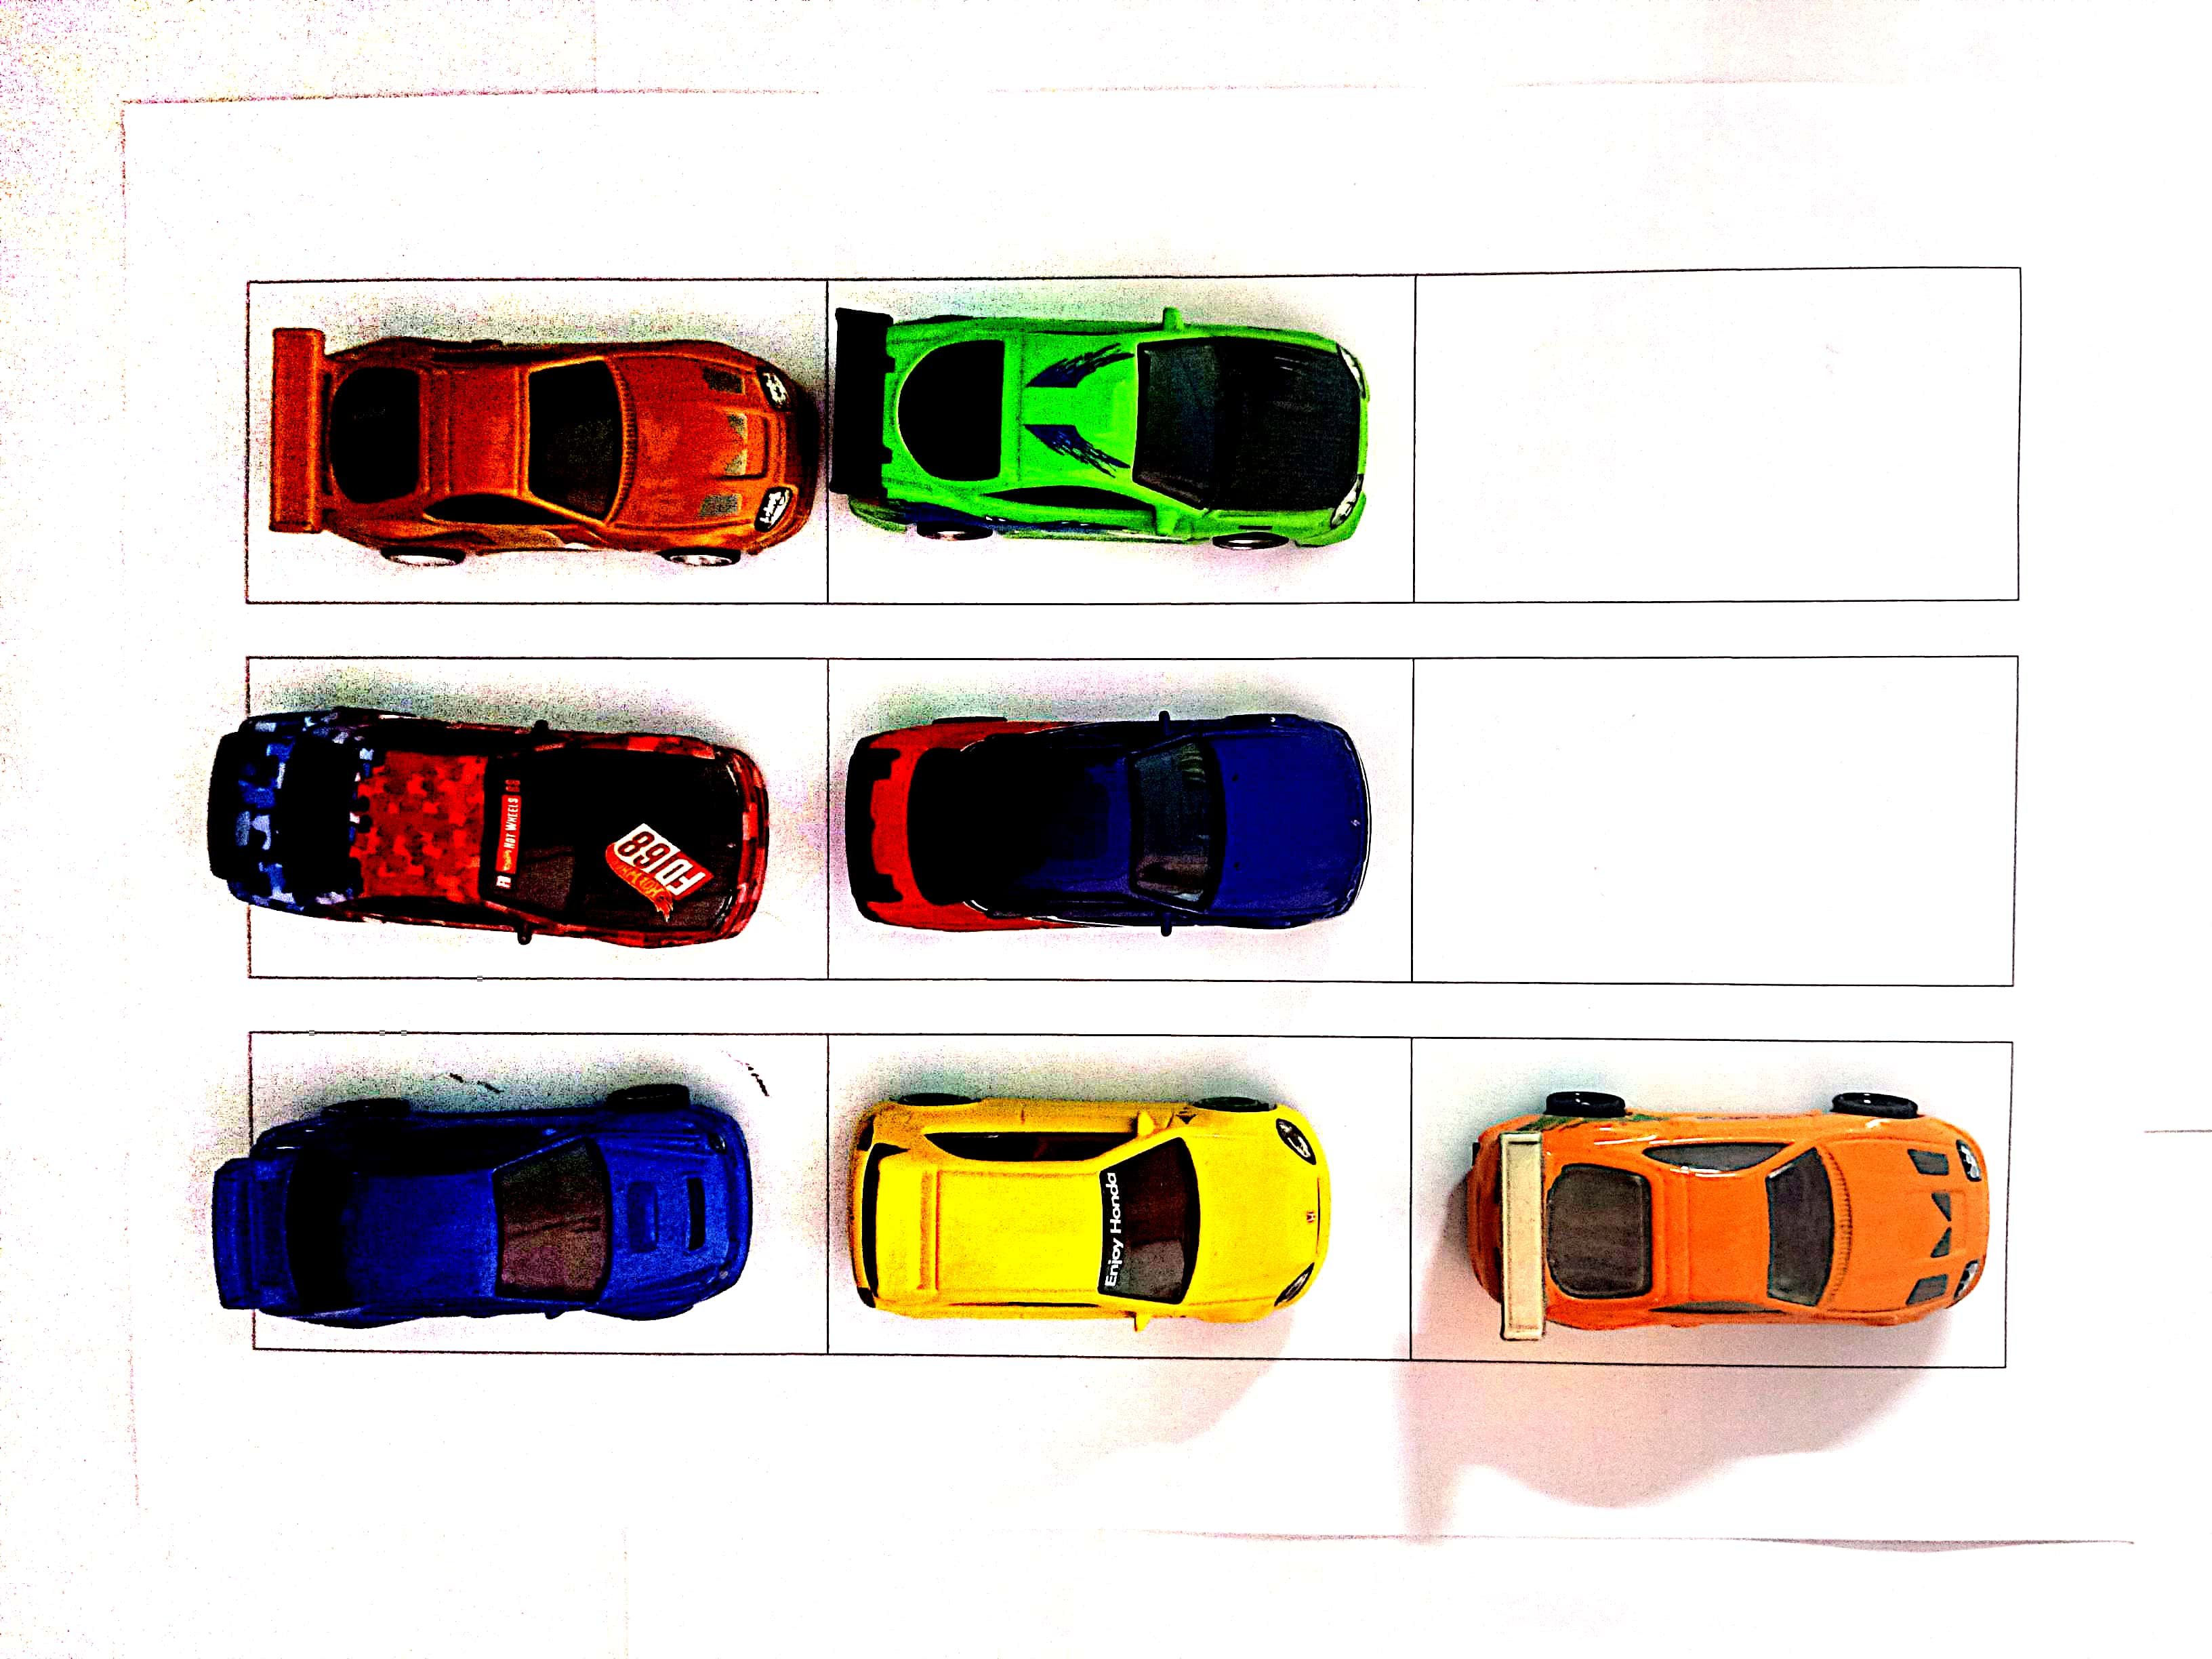Busy: (244, 279, 827, 605), (1409, 1044, 2012, 1356), (829, 1033, 1407, 1356), (829, 282, 1413, 601), (253, 1030, 824, 1352), (253, 662, 827, 981), (829, 664, 1407, 976)
Free: (1413, 268, 2019, 599), (1413, 662, 2017, 985)
